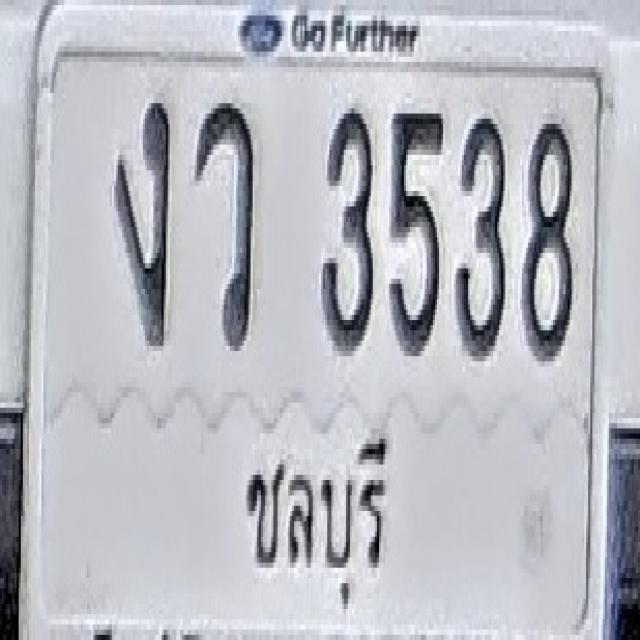3: (454, 111, 506, 359), (321, 106, 373, 353)
5: (389, 109, 444, 356)
8: (522, 119, 572, 361)
A07: (115, 98, 171, 346)
A37: (194, 98, 254, 351)
CBI: (238, 426, 388, 619)
